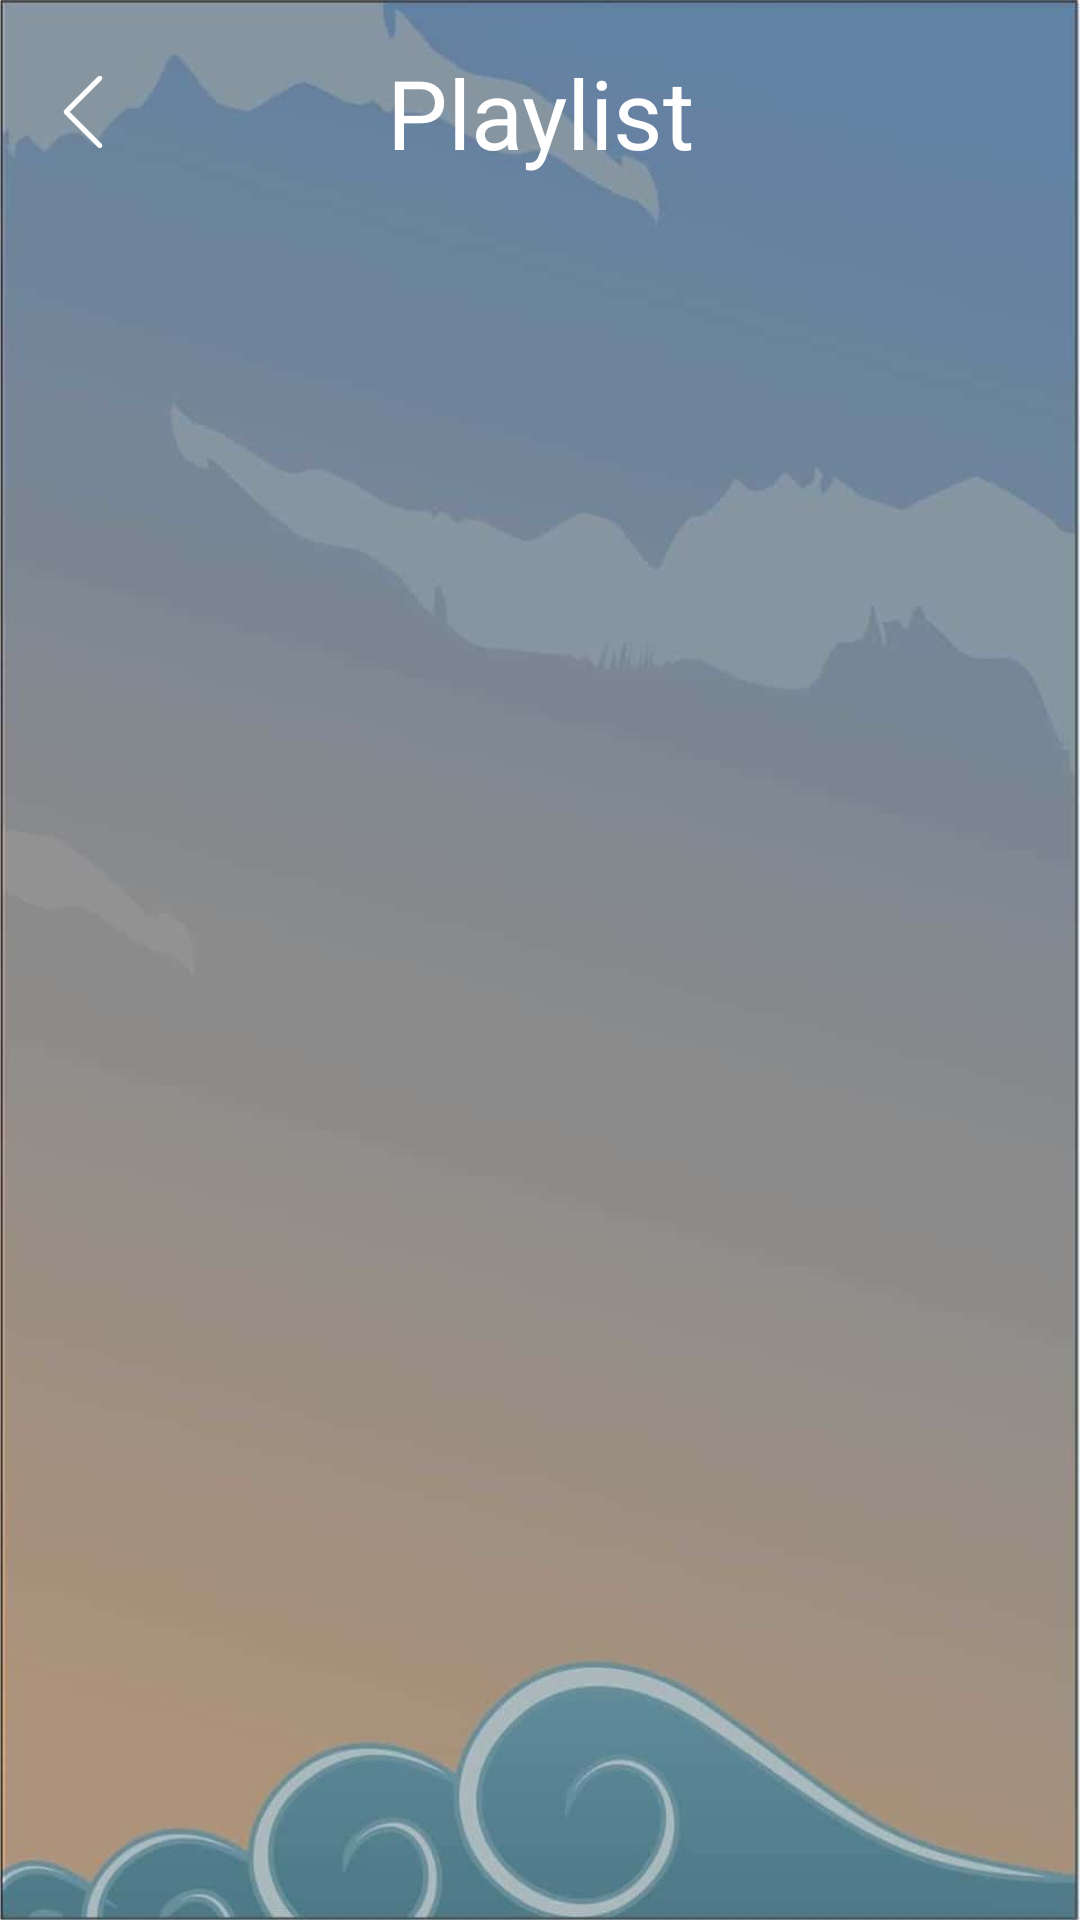

Where to tap for icons on this 1080×1920 app screen, as (x=x, y=y):
back: (x=86, y=112)
